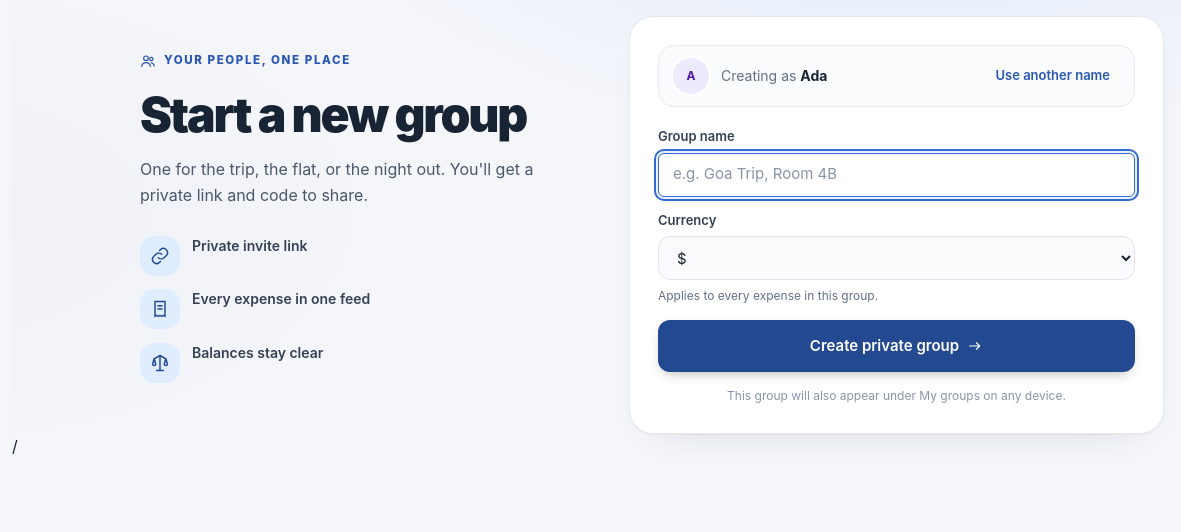
CreateGroup › surfaces backend errors
The image size is (1181, 532).
In the field labelled "Group name": (896, 174) [658,152,1135,196], type "Goa"
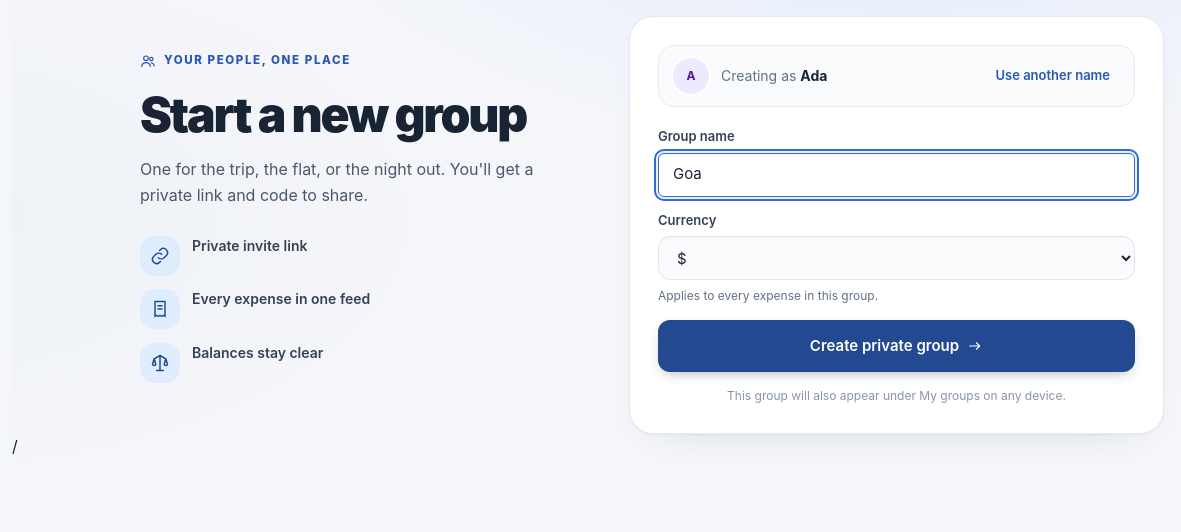
Click the button "Create private group": (896, 346) [658,320,1135,372]
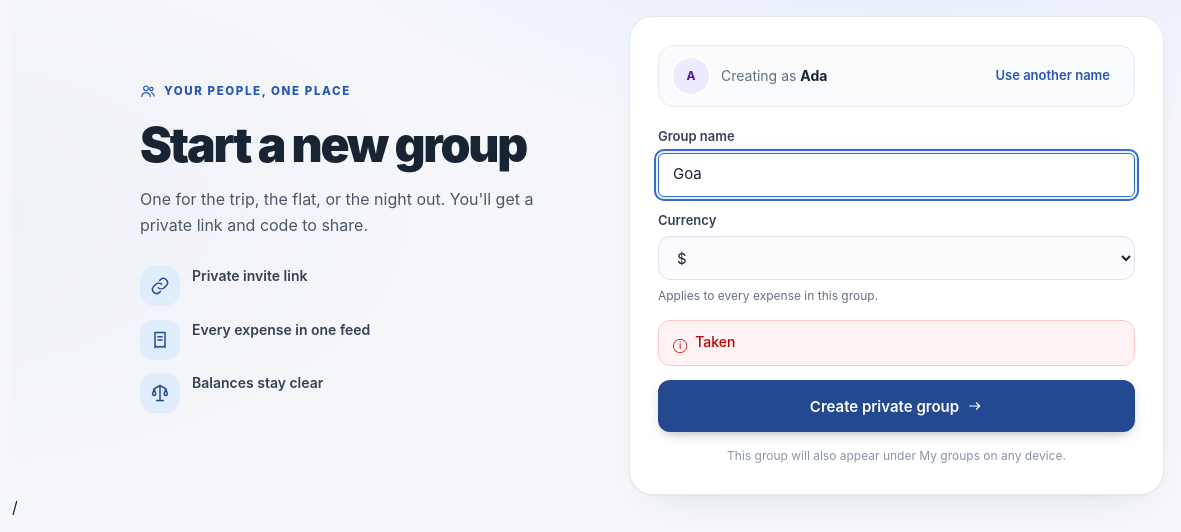
Result: the message shows "Taken" at [695,332,735,350]
